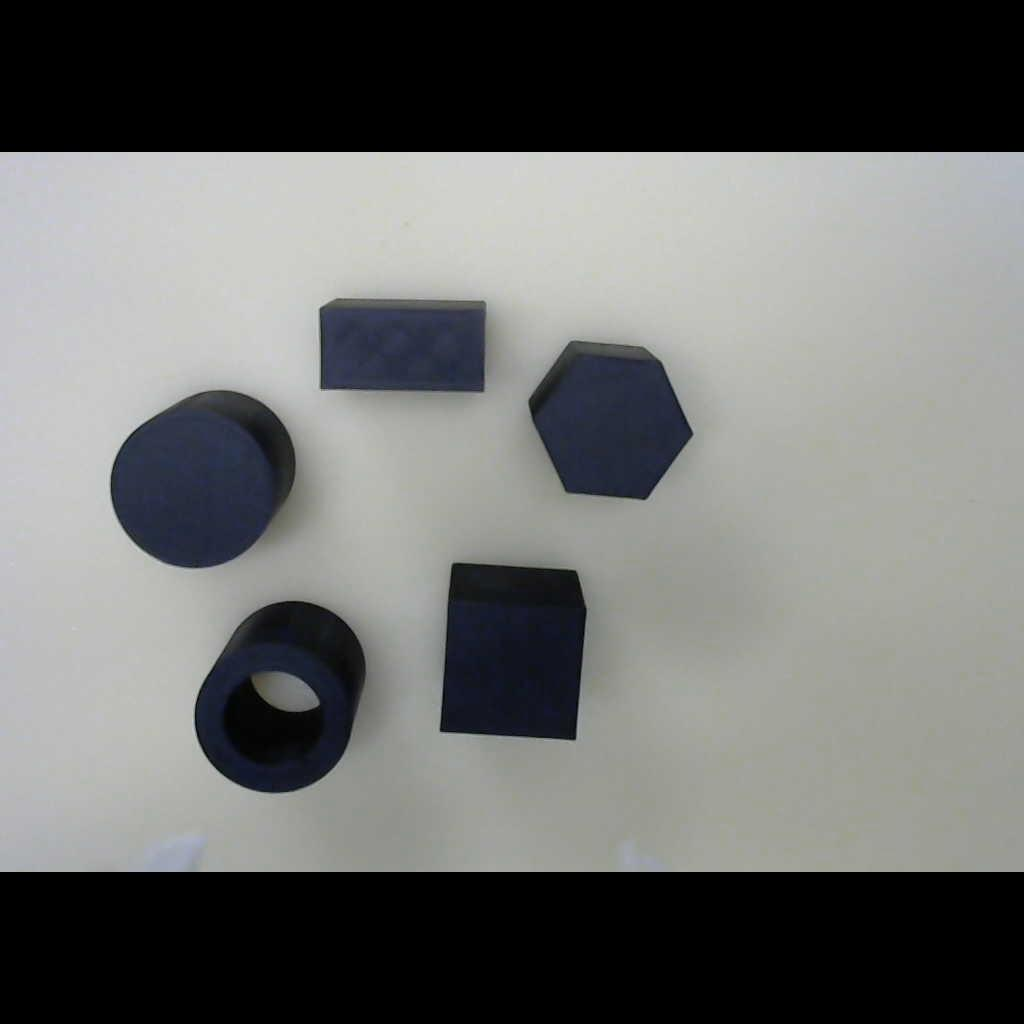circle: (96, 382, 309, 580)
hexagon: (507, 320, 718, 521)
rectangle: (309, 289, 499, 404)
ring: (185, 590, 377, 808)
square: (411, 543, 615, 761)
